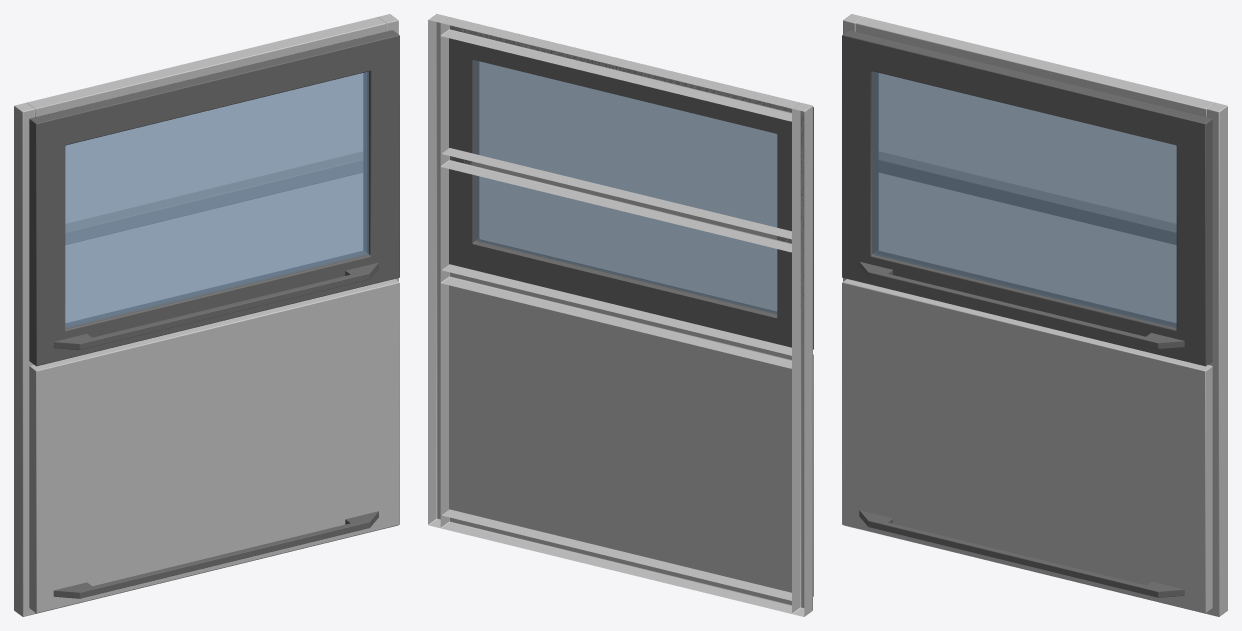
File: door.obj
The picture shows the model from 3 angles, left to right: view 1: azimuth 30°, elevation 25°; view 2: azimuth 150°, elevation 25°; view 3: azimuth 330°, elevation 25°; orthographic projection.
Parts seen in each view (by area): view 1: 286; view 2: 286; view 3: 286.
Part boxes in pixels (x1,y1,x2,y2): 286: [14, 14, 399, 616]; 286: [428, 14, 813, 616]; 286: [842, 14, 1227, 616].
Size of the model in its own units: 0.6 by 0.77 by 0.0678.
